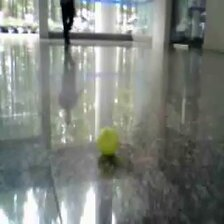tennis: (98, 128, 120, 154)
